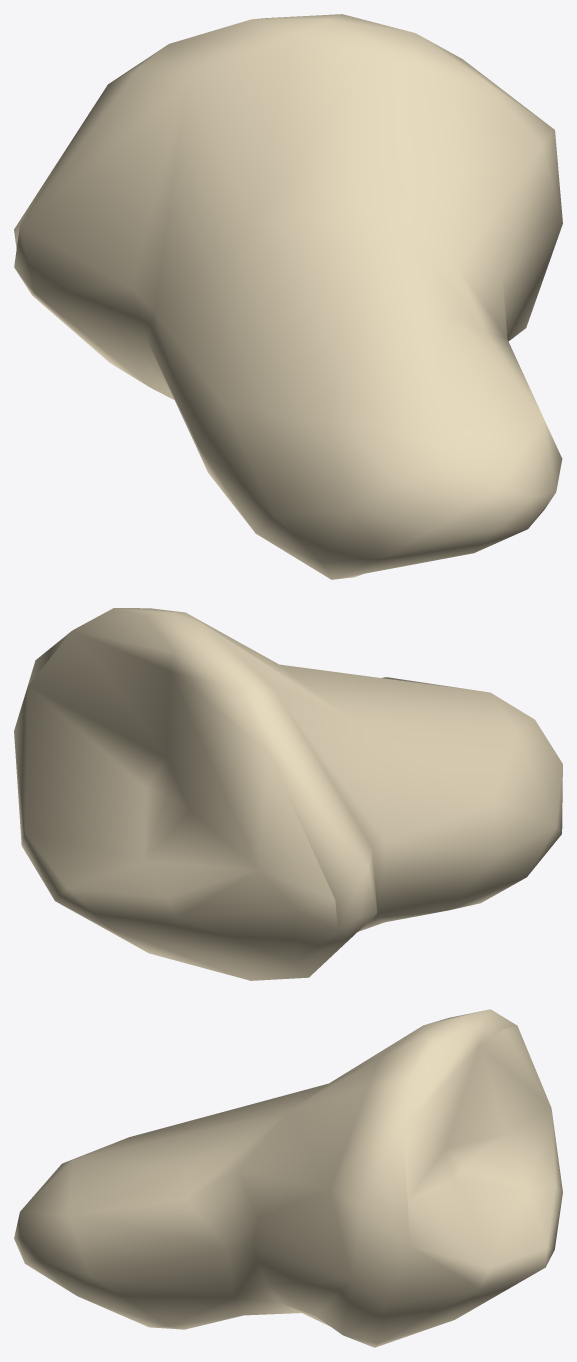
Rendered from esqueleto-distal-phalanx-of-fourth-finger-of-foot-r.glb.
3 views of the same model, one above another, from view 1: azimuth 30°, elevation 25°; view 2: azimuth 150°, elevation 25°; view 3: azimuth 270°, elevation 25° (orthographic). The views are drawn at different scales.
Visible parts, largest first — view 1: Distal phalanx of fourth finger of foot.r; view 2: Distal phalanx of fourth finger of foot.r; view 3: Distal phalanx of fourth finger of foot.r.
Boxes of the visible parts, bbox=[...] form: Distal phalanx of fourth finger of foot.r: bbox=[14, 14, 562, 579]; Distal phalanx of fourth finger of foot.r: bbox=[14, 608, 562, 980]; Distal phalanx of fourth finger of foot.r: bbox=[14, 1009, 562, 1347].
Bounding box in the file's own units: 0.00879 × 0.00733 × 0.0117.
